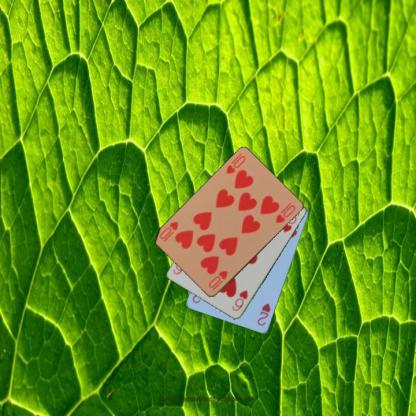10h: (206, 268, 228, 292), (224, 154, 247, 176)
2h: (254, 300, 272, 327)
6h: (229, 288, 249, 312)
